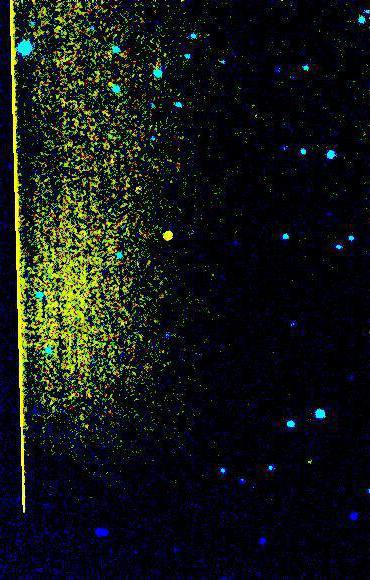star: (154, 220, 184, 250)
